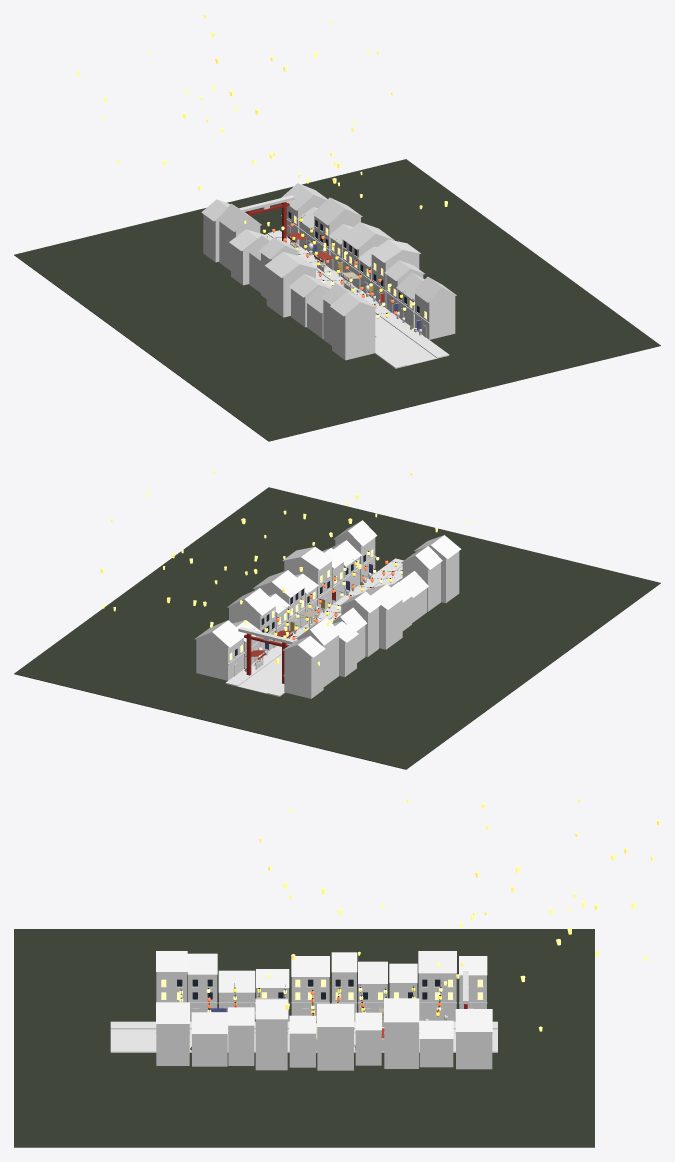
Rendered from festival_street.glb.
3 renders of one model, top to bottom at view 1: azimuth 30°, elevation 25°; view 2: azimuth 150°, elevation 25°; view 3: azimuth 270°, elevation 25°, orthographic. The views are drawn at different scales.
Visible parts, largest first — view 1: Ground, House_L_0, House_R_0, House_L_20, Sidewalk_R, House_R_15, Street, House_R_35, House_R_24, House_L_40, House_R_46, House_L_36 (+9 smaller); view 2: Ground, House_R_46, House_L_46, House_R_15, House_R_35, House_L_20, Sidewalk_R, House_R_24, House_L_0, House_L_4, House_L_40, House_L_27 (+11 smaller); view 3: Ground, House_L_40, House_R_24, House_R_35, House_R_15, House_R_46, House_R_0, House_L_20, House_R_5, House_L_4, House_R_40, House_L_0 (+12 smaller).
Boxes of the visible parts, bbox=[...] form: Ground: bbox=[14, 159, 660, 441]; House_L_0: bbox=[330, 292, 377, 360]; House_R_0: bbox=[413, 276, 456, 339]; House_L_20: bbox=[265, 252, 317, 317]; Sidewalk_R: bbox=[267, 230, 449, 358]; House_R_15: bbox=[370, 239, 420, 307]; Street: bbox=[264, 234, 436, 365]; House_R_35: bbox=[312, 197, 362, 263]; House_R_24: bbox=[341, 222, 394, 283]; House_L_40: bbox=[217, 203, 261, 270]; House_R_46: bbox=[281, 183, 327, 243]; House_L_36: bbox=[229, 229, 270, 285]; Ground: bbox=[14, 487, 660, 769]; House_R_46: bbox=[194, 620, 244, 680]; House_L_46: bbox=[282, 636, 325, 698]; House_R_15: bbox=[282, 546, 333, 613]; House_R_35: bbox=[227, 588, 277, 655]; House_L_20: bbox=[365, 584, 404, 649]; Sidewalk_R: bbox=[225, 558, 403, 686]; House_R_24: bbox=[253, 570, 306, 633]; House_L_0: bbox=[414, 535, 461, 603]; House_L_4: bbox=[401, 546, 442, 611]; House_L_40: bbox=[296, 617, 340, 686]; House_L_27: bbox=[339, 591, 380, 656]; Ground: bbox=[14, 929, 594, 1147]; House_L_40: bbox=[418, 951, 456, 1021]; House_R_24: bbox=[317, 1003, 354, 1070]; House_R_35: bbox=[384, 998, 419, 1068]; House_R_15: bbox=[255, 998, 287, 1070]; House_R_46: bbox=[455, 1009, 492, 1069]; House_R_0: bbox=[156, 1002, 189, 1065]; House_L_20: bbox=[291, 956, 329, 1021]; House_R_5: bbox=[191, 1012, 227, 1066]; House_L_4: bbox=[187, 953, 217, 1021]; House_R_40: bbox=[419, 1020, 453, 1067]; House_L_0: bbox=[156, 951, 187, 1002].
Bounding box in the file's own units: 80 × 34.55 × 100.
